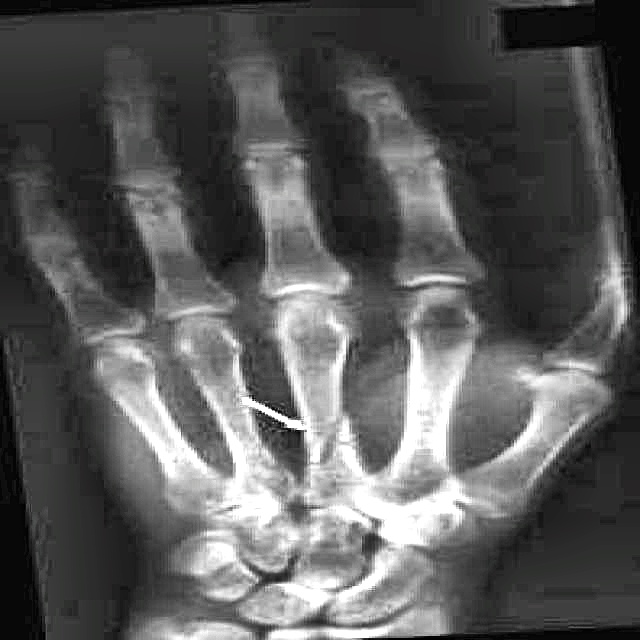Oblique Displaced: (291, 397, 371, 491)
